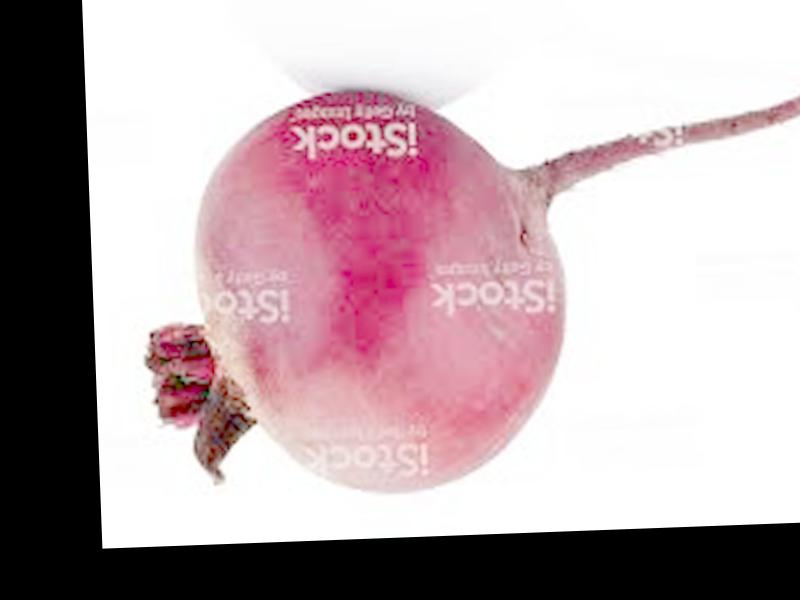Beet: (137, 72, 800, 499)
